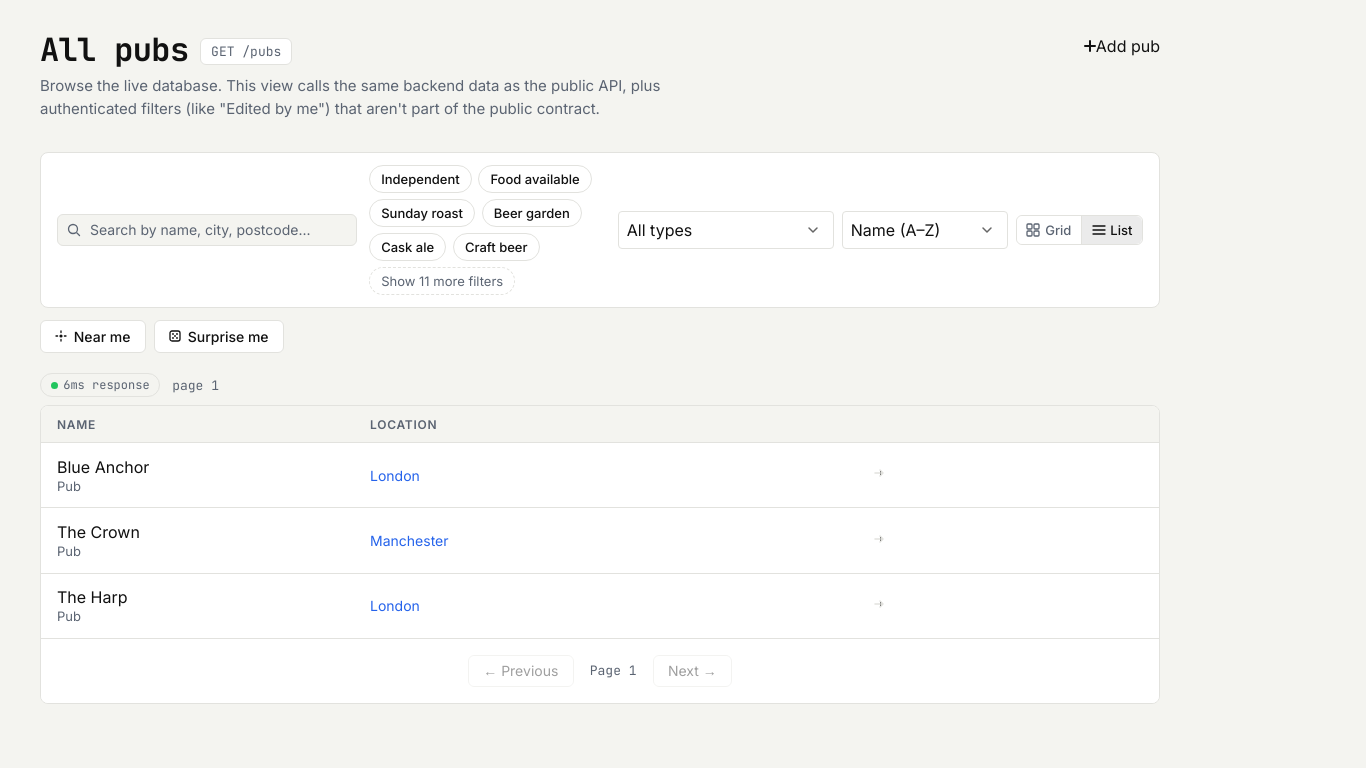
Test: Pubs page › recent searches › removes a single recent search and clears them all
Check: the link "The Harp" is shown, box [57,587,128,607]
Focus the search field with placeholder "Search by name, city, postcode..." at {"x": 207, "y": 230}, box [57,214,357,246]
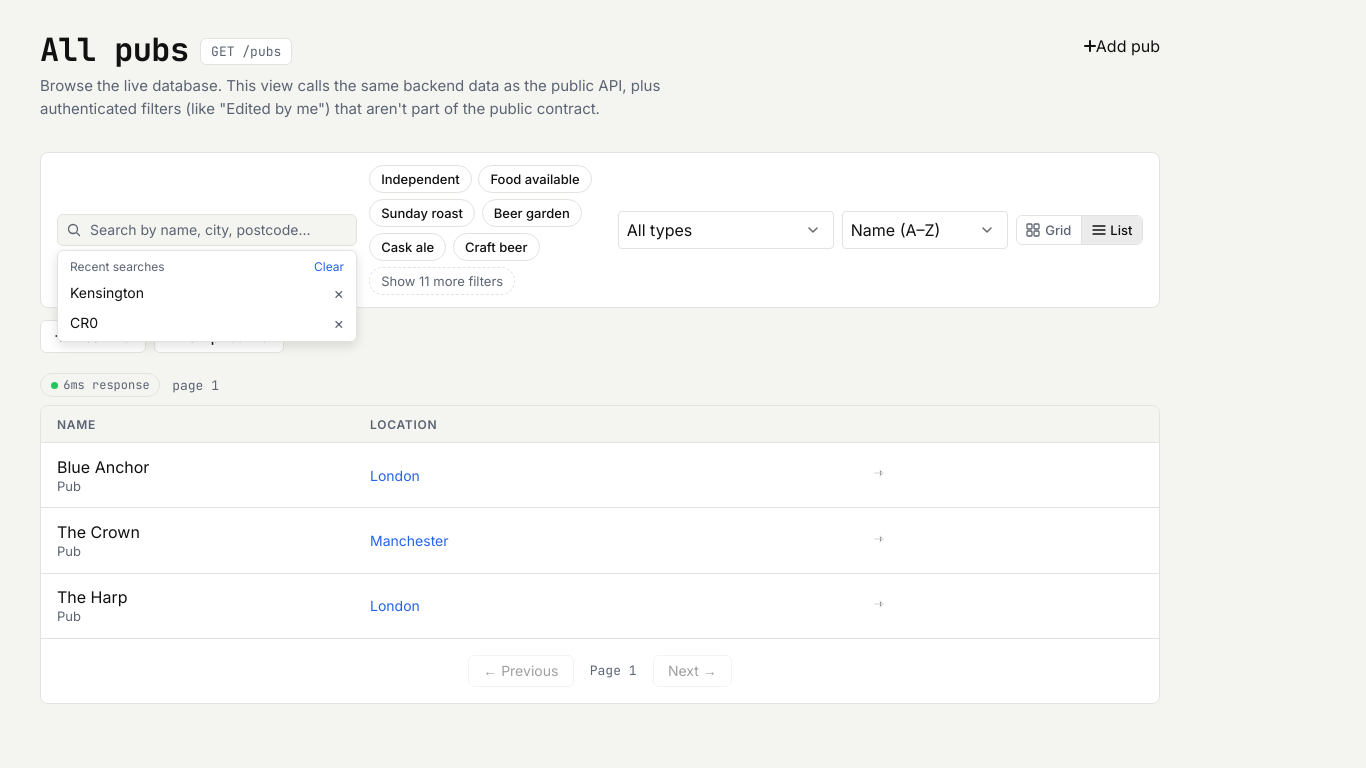
Click the button named "Remove CR0 from recent searches" at {"x": 339, "y": 322}, box [321,308,356,337]
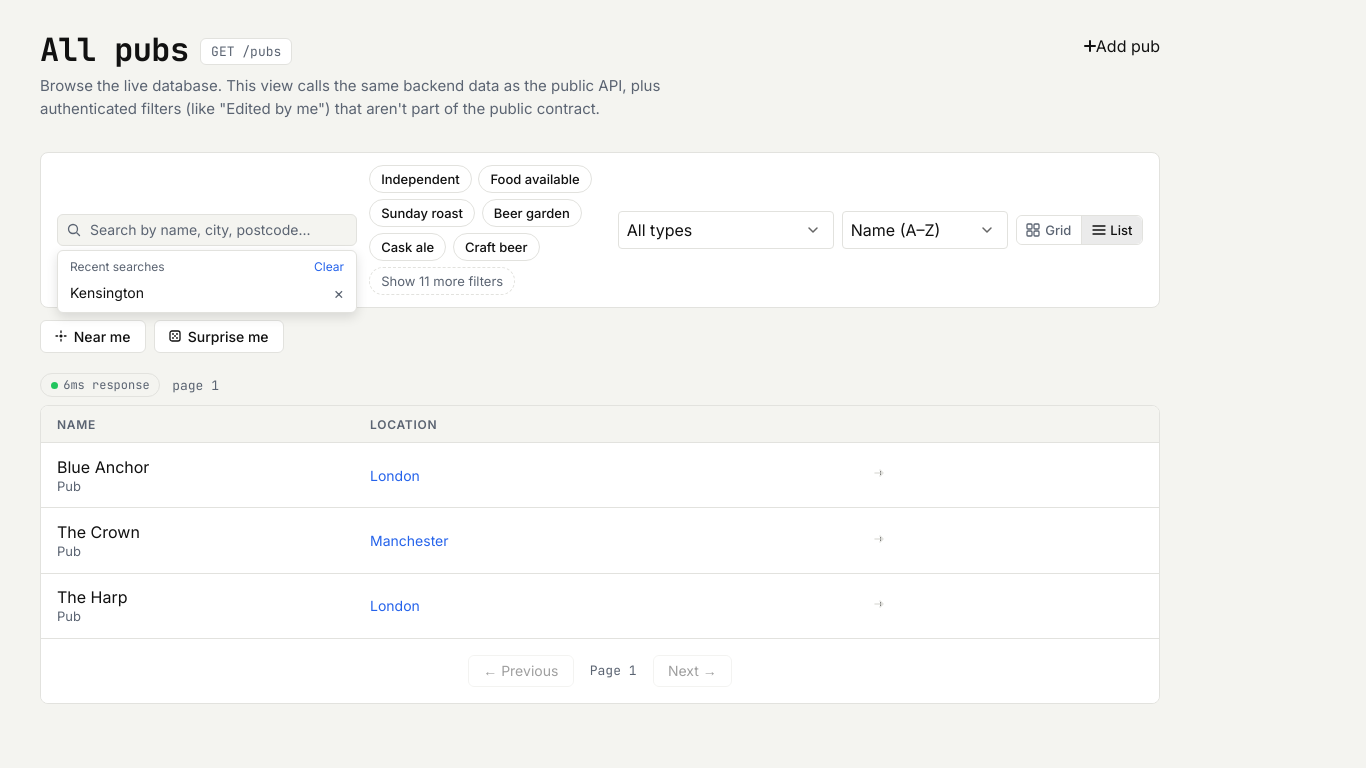
Check: the button "CR0" is gone
Click the button "Clear" at {"x": 329, "y": 266}, box [314,259,344,274]
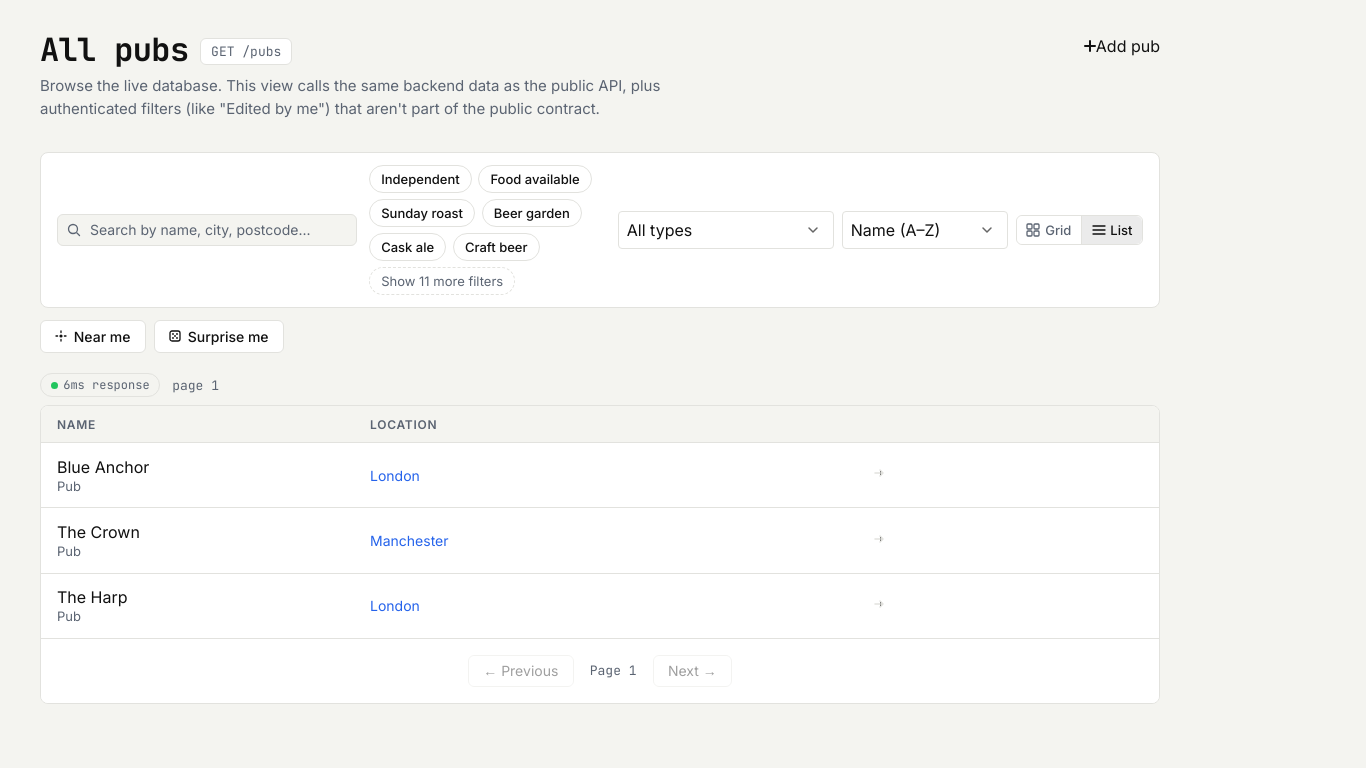
Check: the text "Recent searches" is gone
